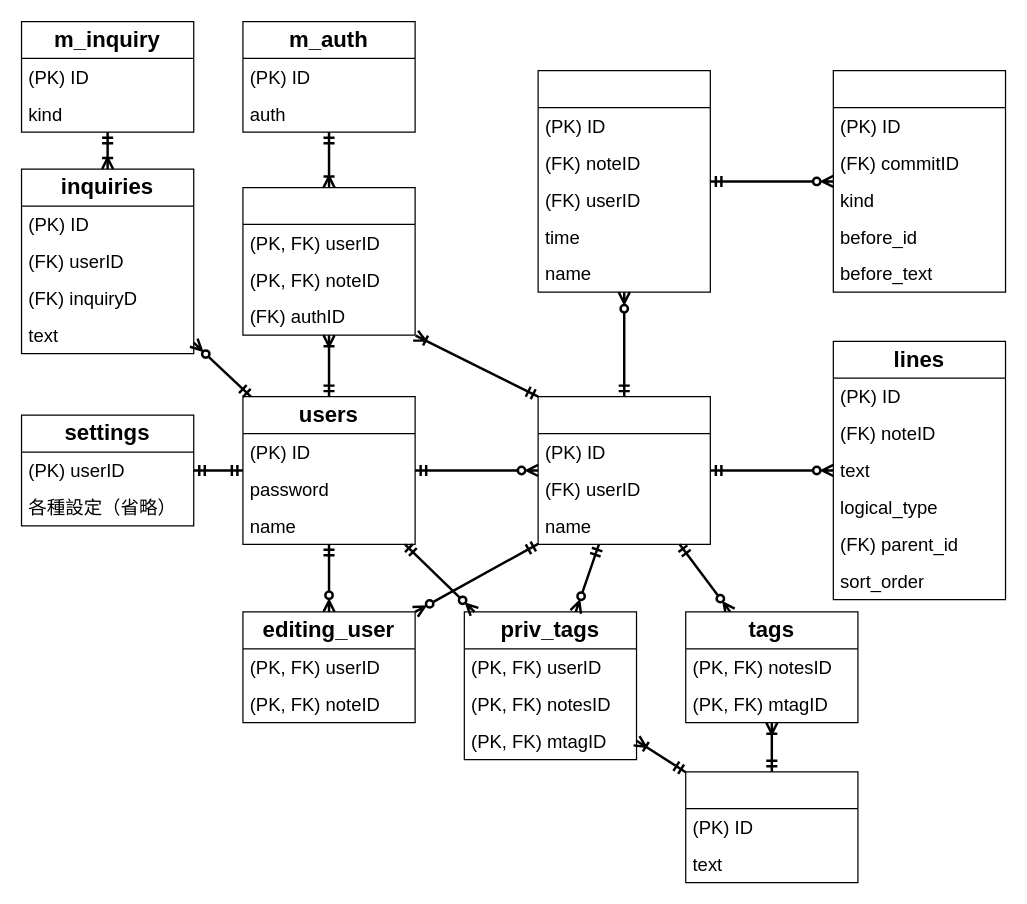
Image size: 1027x904. Some labels were removed from this diagram. Each missing label, with the box of its shape:
auths: (242, 186, 415, 335)
commit_lines: (832, 69, 1006, 292)
commits: (537, 69, 710, 292)
m_tag: (684, 771, 858, 883)
notes: (537, 395, 710, 544)
